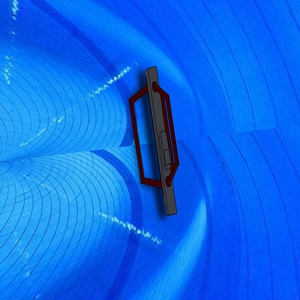submarine: (122, 65, 195, 217)
